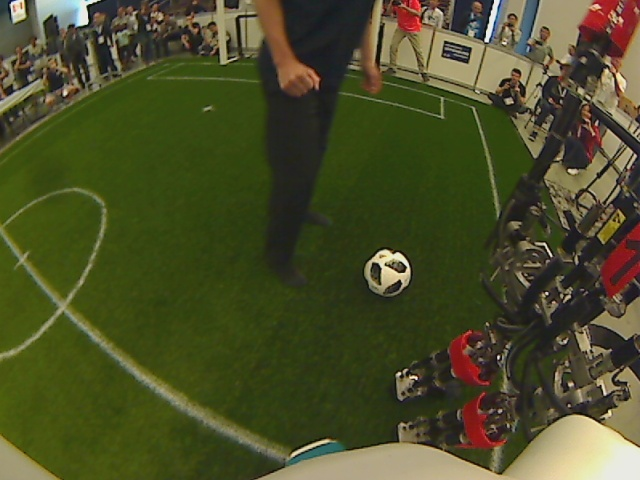ball: (364, 246, 412, 298)
